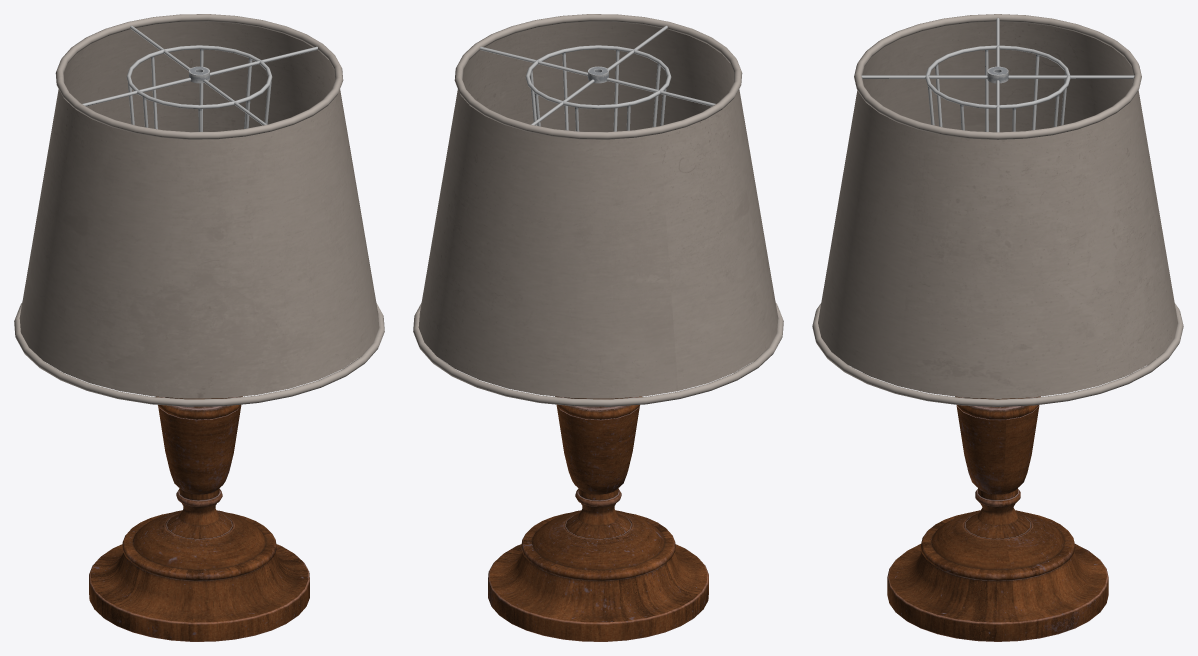
Rendered from Bedlamp.fbx.
3 renders of one model, left to right at view 1: azimuth 30°, elevation 25°; view 2: azimuth 150°, elevation 25°; view 3: azimuth 270°, elevation 25°, orthographic.
Parts seen in each view (by area): view 1: Lamp.007, Lamp, Lamp.006, Lamp.003, Lamp.004, Lamp.005, Lamp.009, Lamp.011, Lamp.010; view 2: Lamp.007, Lamp, Lamp.006, Lamp.003, Lamp.004, Lamp.005, Lamp.009, Lamp.011, Lamp.010; view 3: Lamp.007, Lamp, Lamp.006, Lamp.003, Lamp.004, Lamp.005, Lamp.009, Lamp.010.
Part boxes in pixels (x1,y1,x2,y2): Lamp.007: (19,21,379,398); Lamp: (89,510,309,641); Lamp.006: (156,396,242,539); Lamp.003: (55,14,343,139); Lamp.004: (14,303,384,406); Lamp.005: (126,45,272,109); Lamp.009: (127,49,271,131); Lamp.011: (82,46,318,106); Lamp.010: (130,25,266,125); Lamp.007: (418,21,778,398); Lamp: (488,510,708,641); Lamp.006: (555,396,641,539); Lamp.003: (454,14,742,139); Lamp.004: (413,303,783,406); Lamp.005: (525,45,671,109); Lamp.009: (530,50,666,131); Lamp.011: (479,46,715,106); Lamp.010: (531,25,667,125); Lamp.007: (818,21,1177,398); Lamp: (887,510,1108,641); Lamp.006: (955,396,1040,538); Lamp.003: (854,14,1141,139); Lamp.004: (812,303,1183,406); Lamp.005: (925,45,1070,108); Lamp.009: (928,50,1066,131); Lamp.010: (861,75,1134,78).
Bounding box in the file's own units: 27.85 × 43.41 × 27.85.
